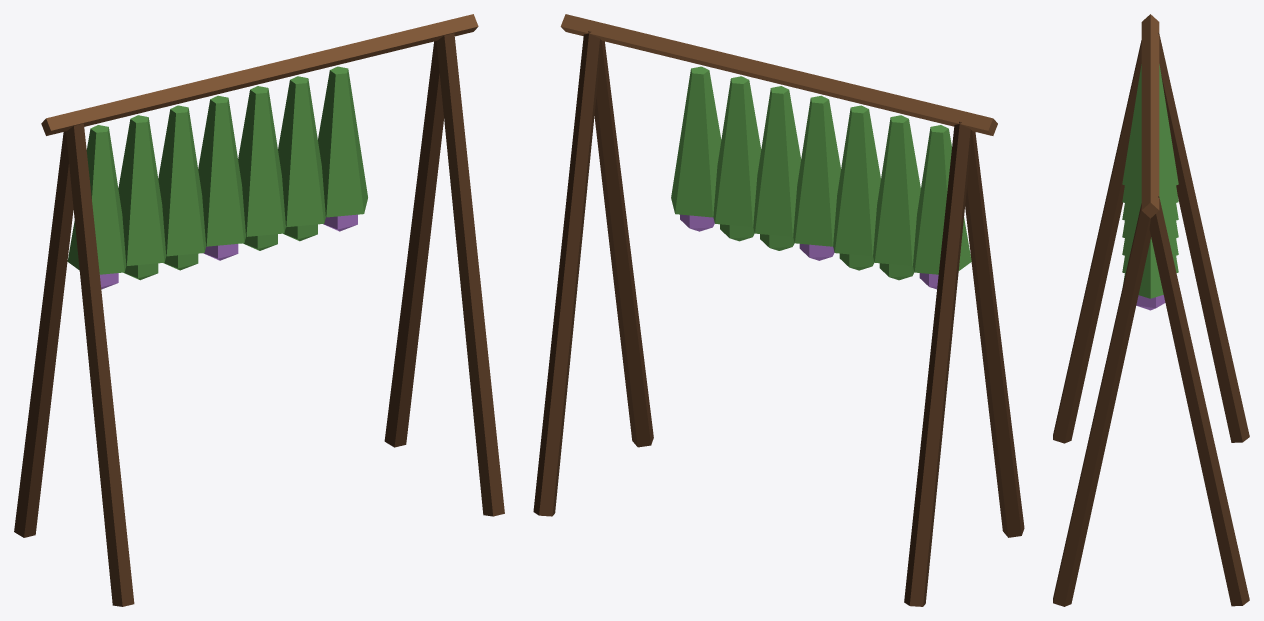
The model's file is pile_herbs_2.glb.
3 renders of one model, left to right at view 1: azimuth 30°, elevation 25°; view 2: azimuth 150°, elevation 25°; view 3: azimuth 270°, elevation 25°, orthographic. The views are drawn at different scales.
Visible parts, largest first — view 1: pile_herbs_2; view 2: pile_herbs_2; view 3: pile_herbs_2.
Part boxes in pixels (box(x1,y1,x2,y2)): pile_herbs_2: box(14, 14, 504, 606); pile_herbs_2: box(533, 14, 1024, 606); pile_herbs_2: box(1053, 14, 1249, 606).
Bounding box in the file's own units: 1.5 × 1.54 × 0.6621.
